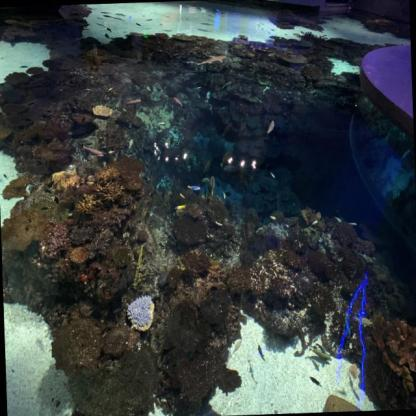fish: (81, 142, 105, 159), (310, 348, 332, 363), (354, 314, 373, 328), (230, 337, 243, 357), (221, 121, 236, 137), (344, 310, 353, 335), (359, 250, 374, 264), (265, 116, 276, 135), (237, 120, 248, 138), (309, 374, 323, 388), (172, 94, 184, 109), (208, 174, 216, 196), (257, 342, 265, 362), (239, 170, 248, 186), (124, 98, 142, 106), (201, 159, 211, 173), (187, 182, 201, 192), (249, 365, 256, 383), (174, 202, 187, 211), (222, 150, 230, 164), (332, 214, 343, 224), (337, 388, 349, 397), (128, 138, 136, 151), (316, 343, 326, 353), (347, 219, 358, 228), (349, 372, 354, 390), (200, 175, 210, 184), (352, 389, 360, 400), (268, 213, 277, 222), (311, 218, 319, 227), (214, 219, 223, 227), (3, 172, 10, 182), (178, 192, 186, 199), (283, 222, 290, 229), (270, 171, 276, 179), (108, 149, 116, 155), (146, 85, 152, 92), (222, 190, 226, 200), (158, 121, 166, 126), (108, 86, 114, 92), (122, 107, 126, 112)
shark: (196, 54, 226, 66)
